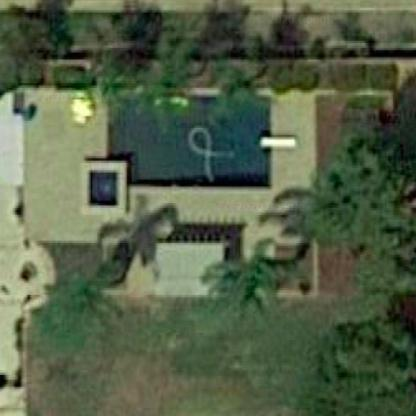swimming_pool: (81, 71, 290, 209)
